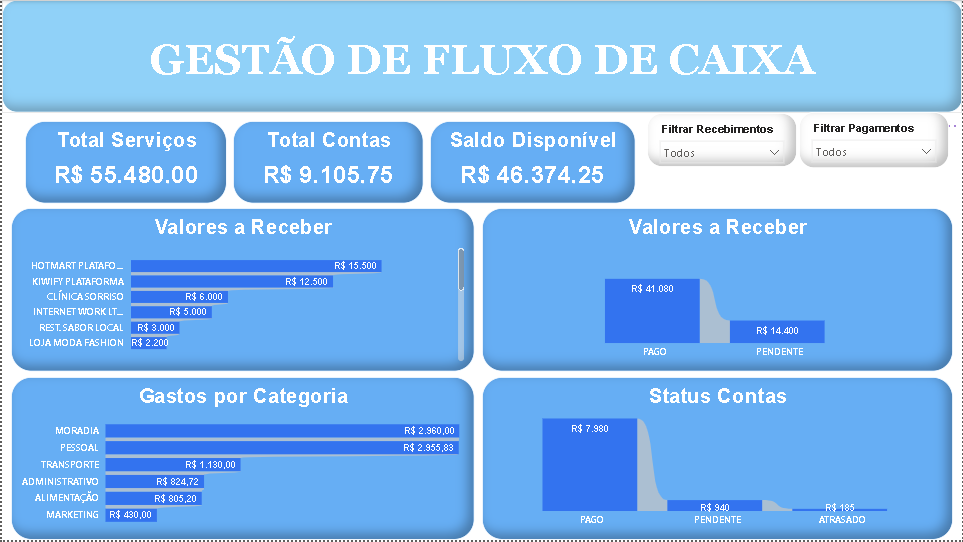

The dashboard page shown, as its layout file describes it:
{"tool":"powerbi","page":{"name":"Página 1","canvas":[1280,720],"ordinal":0},"visuals":[{"type":"textbox","box":[0,0,1280.6,150],"z":0},{"type":"barChart","title":"Gastos por Categoria","fields":{"Y":["Sum(CONTAS A PAGAR.VALOR A PAGAR)"],"Category":["CONTAS A PAGAR.CENTRO DE CUSTO"]},"box":[12.5,502.8,618.1,216.7],"z":1000},{"type":"columnChart","title":"Status Contas","fields":{"Category":["CONTAS A PAGAR.STATUS"],"Y":["Sum(CONTAS A PAGAR.VALOR A PAGAR)"]},"box":[640.3,502.8,627.8,216.7],"z":2000},{"type":"barChart","title":"Valores a Receber","fields":{"Category":["CONTAS A RECEBER.CLIENTE "],"Y":["Sum(CONTAS A RECEBER.VALOR A RECEBER)"]},"box":[12.5,277.8,618.1,218.1],"z":3000},{"type":"columnChart","title":"Valores a Receber","fields":{"Category":["CONTAS A RECEBER.STATUS"],"Y":["Sum(CONTAS A RECEBER.VALOR A RECEBER)"]},"box":[640.3,277.8,627.8,218.1],"z":4000},{"type":"cardVisual","title":"Total Contas","fields":{"Data":["Sum(CONTAS A PAGAR.VALOR A PAGAR)"]},"box":[308.3,161.1,254.2,109.7],"z":7000},{"type":"cardVisual","title":"Total Serviços","fields":{"Data":["Sum(CONTAS A RECEBER.VALOR A RECEBER)"]},"box":[30.6,161.1,269.4,109.7],"z":8000},{"type":"cardVisual","title":"Saldo Disponível","fields":{"Data":["CONTAS A RECEBER.Saldo"]},"box":[570.8,161.1,273.6,109.7],"z":9000},{"type":"slicer","fields":{"Values":["CONTAS A RECEBER.STATUS","CONTAS A RECEBER.DATA DE PAGAMENTO .Variation.Hierarquia de datas.Mês"]},"box":[859.7,150,200,72.2],"z":9500},{"type":"slicer","fields":{"Values":["CONTAS A PAGAR.STATUS","CONTAS A PAGAR.DATA DE VENCIMENTO .Variation.Hierarquia de datas.Mês"]},"box":[1062.7,149.3,200,74.7],"z":10000}]}

Visuals, with their boxes in screenshot pixels (x1, y1, x2, y2), scaled from the page's 1280x720 canvas onto the 963x542 screenshot:
textbox: 0 0 962 113
"Gastos por Categoria" barChart: 9 378 474 541
"Status Contas" columnChart: 482 378 954 541
"Valores a Receber" barChart: 9 209 474 373
"Valores a Receber" columnChart: 482 209 954 373
"Total Contas" cardVisual: 232 121 423 204
"Total Serviços" cardVisual: 23 121 226 204
"Saldo Disponível" cardVisual: 429 121 635 204
slicer - CONTAS A RECEBER.STATUS x CONTAS A RECEBER.DATA DE PAGAMENTO .Variation.Hierarquia de datas.Mês: 647 113 797 167
slicer - CONTAS A PAGAR.STATUS x CONTAS A PAGAR.DATA DE VENCIMENTO .Variation.Hierarquia de datas.Mês: 800 112 950 169
